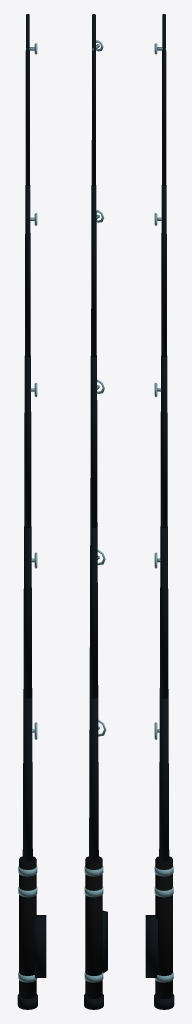
File: heavy_rod.glb
3 renders of one model, left to right at view 1: azimuth 90°, elevation 25°; view 2: azimuth 150°, elevation 25°; view 3: azimuth 270°, elevation 25°, orthographic.
Visible parts, largest first — view 1: heavy_rod_Handle, heavy_rod_Segment1, heavy_rod_Segment2, heavy_rod_Segment3, heavy_rod_Segment4, heavy_rod_Segment5; view 2: heavy_rod_Handle, heavy_rod_Segment1, heavy_rod_Segment2, heavy_rod_Segment3, heavy_rod_Segment4, heavy_rod_Segment5; view 3: heavy_rod_Handle, heavy_rod_Segment1, heavy_rod_Segment2, heavy_rod_Segment3, heavy_rod_Segment4, heavy_rod_Segment5.
Boxes of the visible parts, bbox=[...] form: heavy_rod_Handle: bbox=[17, 856, 46, 1009]; heavy_rod_Segment1: bbox=[22, 697, 37, 861]; heavy_rod_Segment2: bbox=[23, 526, 37, 698]; heavy_rod_Segment3: bbox=[24, 356, 37, 527]; heavy_rod_Segment4: bbox=[25, 185, 37, 356]; heavy_rod_Segment5: bbox=[25, 14, 37, 186]; heavy_rod_Handle: bbox=[84, 856, 107, 1009]; heavy_rod_Segment1: bbox=[89, 697, 106, 861]; heavy_rod_Segment2: bbox=[89, 527, 105, 698]; heavy_rod_Segment3: bbox=[90, 355, 104, 527]; heavy_rod_Segment4: bbox=[91, 185, 103, 356]; heavy_rod_Segment5: bbox=[91, 14, 103, 186]; heavy_rod_Handle: bbox=[145, 856, 174, 1009]; heavy_rod_Segment1: bbox=[154, 697, 169, 861]; heavy_rod_Segment2: bbox=[154, 526, 168, 698]; heavy_rod_Segment3: bbox=[154, 356, 167, 527]; heavy_rod_Segment4: bbox=[154, 185, 166, 356]; heavy_rod_Segment5: bbox=[154, 14, 166, 186].
Size of the model in its own units: 0.0437 by 2.38 by 0.0618.
Materials: 1 (1 with a texture image).
